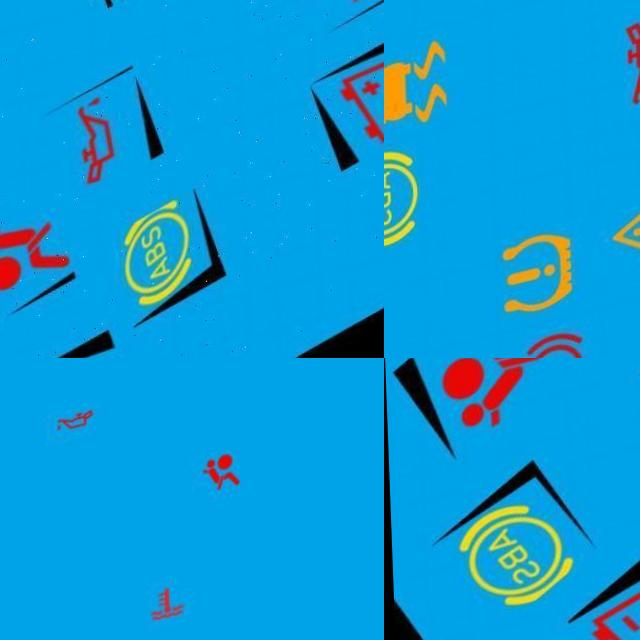High Engine Coolant Temperature: (140, 588, 185, 640)
